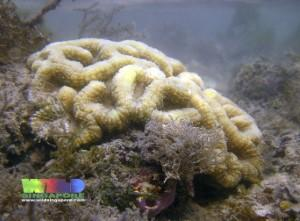bleached_corals: (16, 28, 273, 191)
